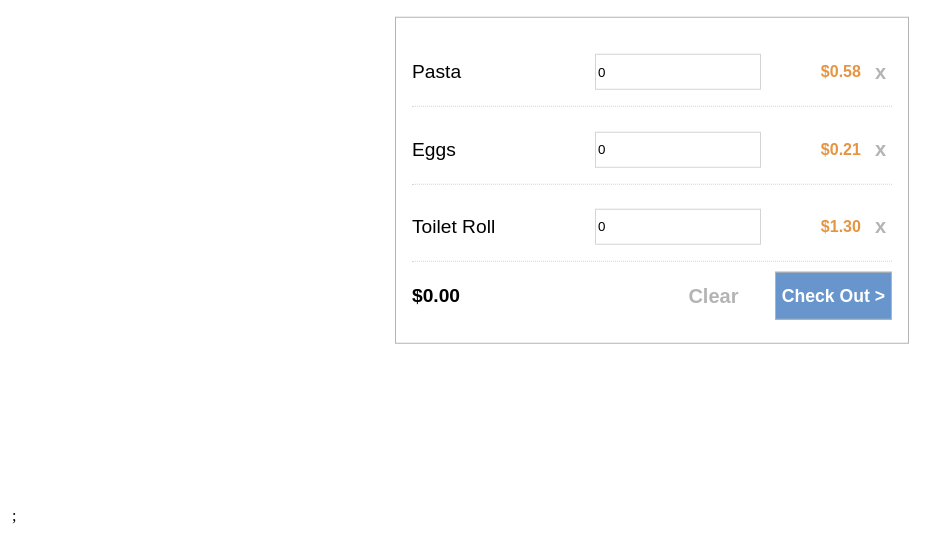
Scenario: <Cart /> › correctly updates item quantity when input changed
The image size is (926, 541).
Replace the text in the number field next to "$1.30" with "2" at coordinates (678, 227), box left=595, top=209, right=761, bottom=245
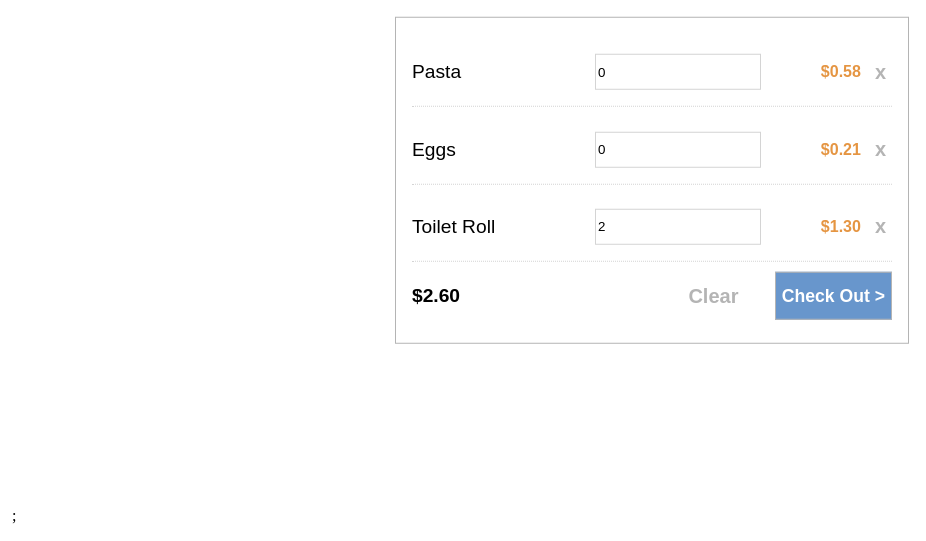
Replace the text in the number field next to "$0.58" with "1" at coordinates (678, 72), box left=595, top=54, right=761, bottom=90
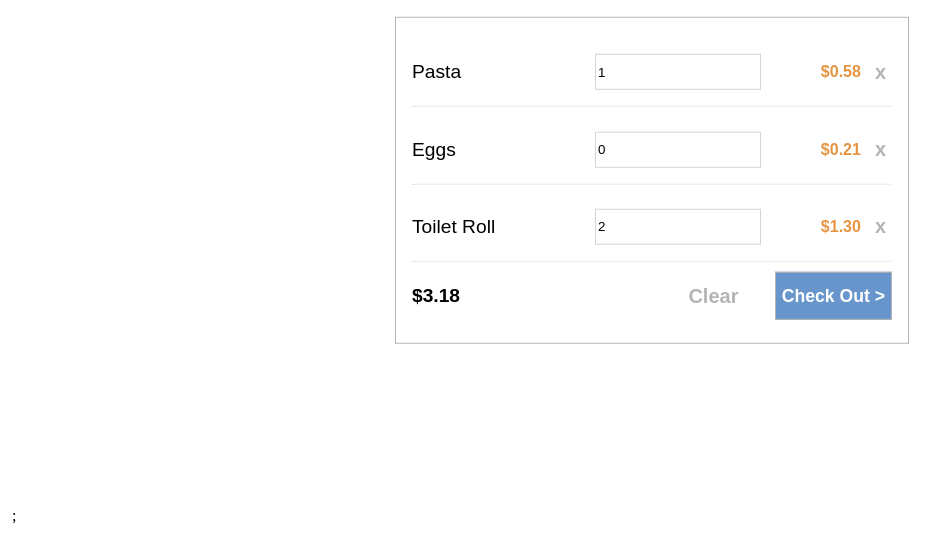
Replace the text in the number field next to "$0.21" with "1" at coordinates (678, 149), box left=595, top=131, right=761, bottom=167
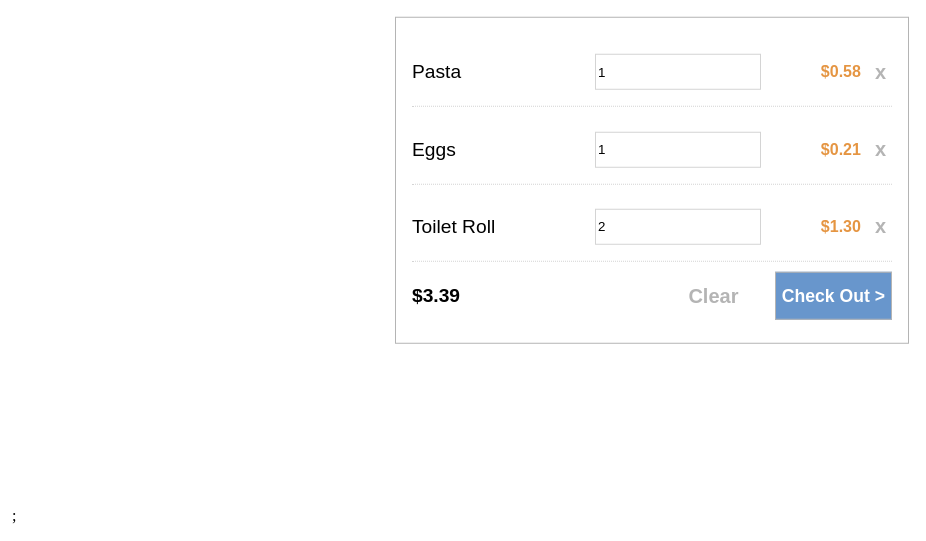
Result: the text with test id "cartTotal" reads "$3.39" at left=412, top=285, right=460, bottom=306
